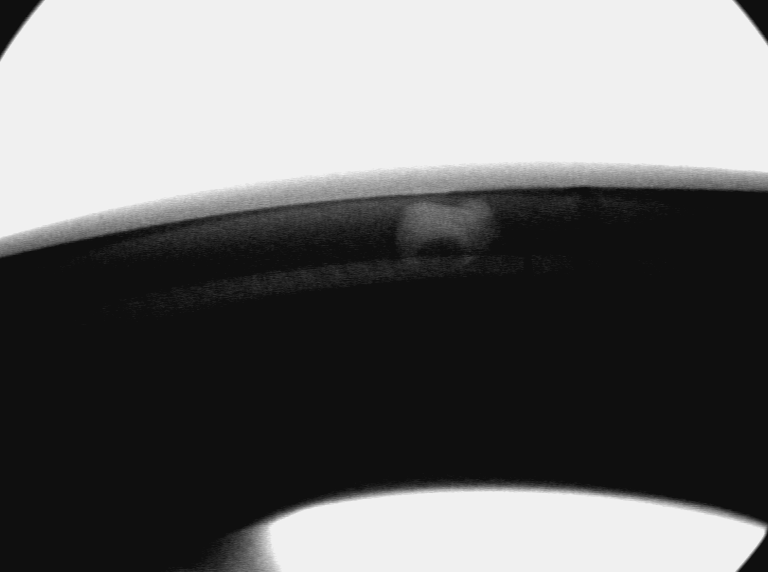defect: (394, 199, 505, 277)
